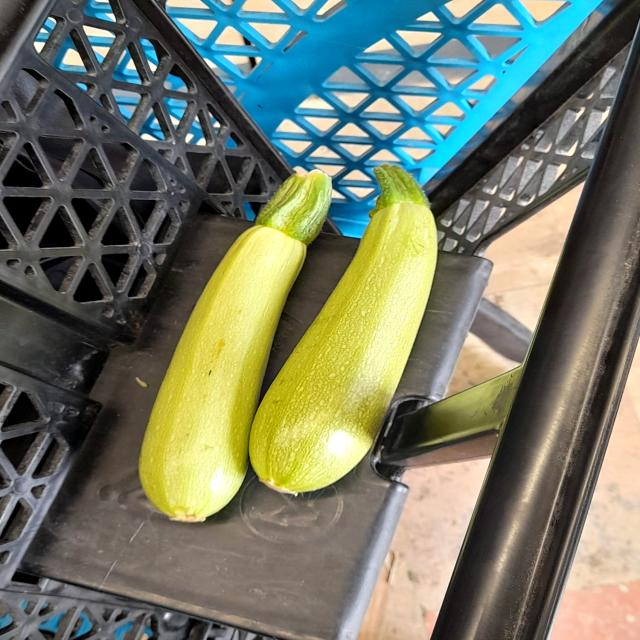zucchini: (134, 152, 348, 525), (246, 157, 449, 497)
